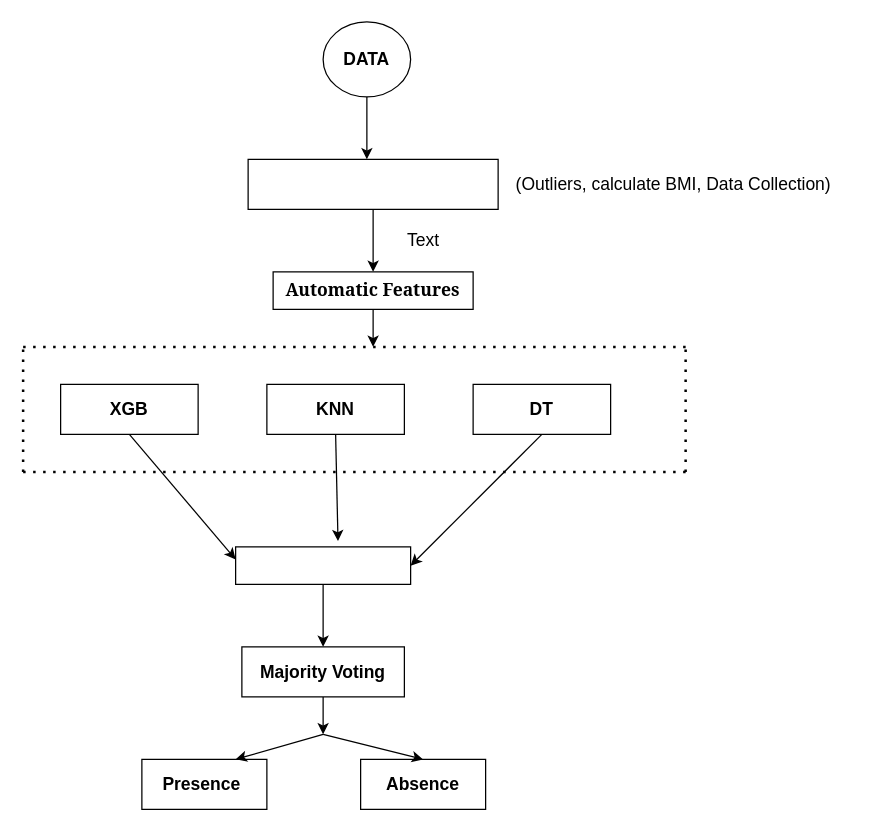
Image size: 869x831. Some labels were removed from this diagram. Each missing label, with the centre of its shape:
"Data Preprocessing" goes at point 372,183.
"Stacking" goes at point 322,565.
